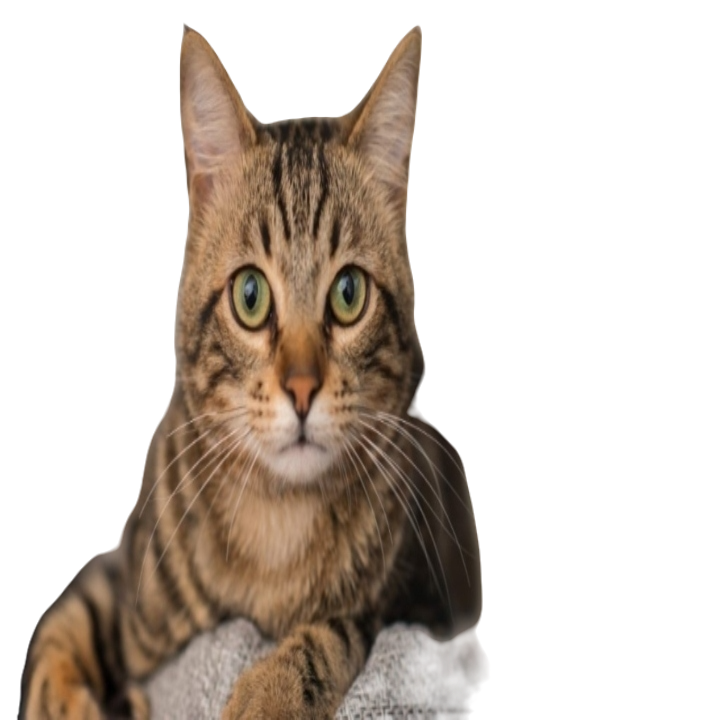Cat: (19, 15, 495, 719)
